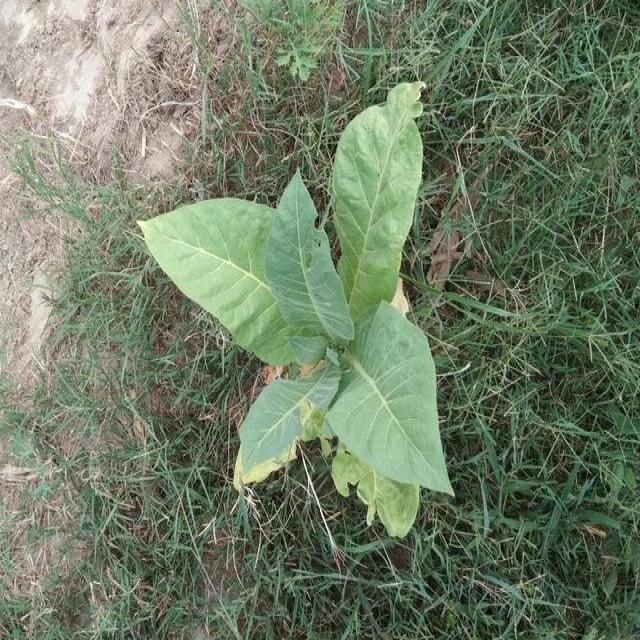crop: (138, 66, 463, 541)
